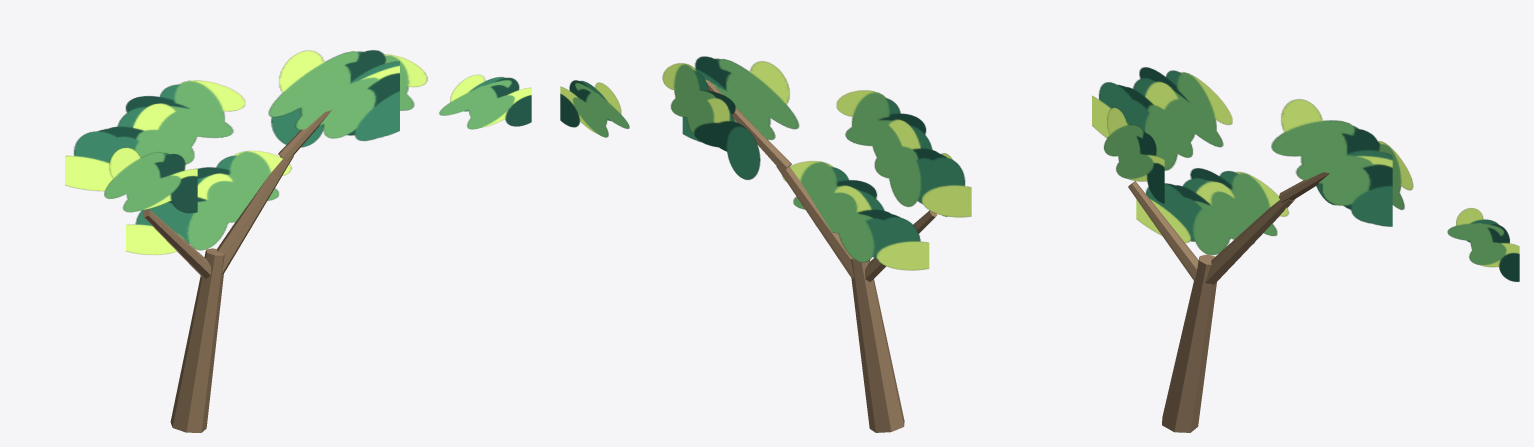
File: TREE_COASTAL_WIND_001_LOD_MAP.glb
3 renders of one model, left to right at view 1: azimuth 30°, elevation 25°; view 2: azimuth 150°, elevation 25°; view 3: azimuth 330°, elevation 25°, orthographic. The views are drawn at different scales.
Visible parts, largest first — view 1: GG_TREE_COASTAL_WIND_001_REAR_01_00, GG_TREE_COASTAL_WIND_001_REAR_02_00, GG_TREE_COASTAL_WIND_001_REAR_05_00, GG_TREE_COASTAL_WIND_001_BRANCH_00, GG_TREE_COASTAL_WIND_001_REAR_00_00, GG_TREE_COASTAL_WIND_001_REAR_04_00, GG_TREE_COASTAL_WIND_001_REAR_03_00, GG_TREE_COASTAL_WIND_001_BRANCH_01, GG_TREE_COASTAL_WIND_001_BRANCH_03, GG_TREE_COASTAL_WIND_001_BRANCH_02; view 2: GG_TREE_COASTAL_WIND_001_REAR_01_00, GG_TREE_COASTAL_WIND_001_REAR_05_00, GG_TREE_COASTAL_WIND_001_REAR_03_00, GG_TREE_COASTAL_WIND_001_BRANCH_00, GG_TREE_COASTAL_WIND_001_REAR_02_00, GG_TREE_COASTAL_WIND_001_REAR_04_00, GG_TREE_COASTAL_WIND_001_BRANCH_01, GG_TREE_COASTAL_WIND_001_BRANCH_02, GG_TREE_COASTAL_WIND_001_BRANCH_03; view 3: GG_TREE_COASTAL_WIND_001_REAR_02_00, GG_TREE_COASTAL_WIND_001_REAR_01_00, GG_TREE_COASTAL_WIND_001_REAR_05_00, GG_TREE_COASTAL_WIND_001_BRANCH_00, GG_TREE_COASTAL_WIND_001_REAR_00_00, GG_TREE_COASTAL_WIND_001_REAR_04_00, GG_TREE_COASTAL_WIND_001_BRANCH_01, GG_TREE_COASTAL_WIND_001_BRANCH_03, GG_TREE_COASTAL_WIND_001_REAR_03_00, GG_TREE_COASTAL_WIND_001_BRANCH_02.
Boxes of the visible parts, <box> form: GG_TREE_COASTAL_WIND_001_REAR_01_00: <box>65,80,245,191</box>; GG_TREE_COASTAL_WIND_001_REAR_02_00: <box>268,50,399,141</box>; GG_TREE_COASTAL_WIND_001_REAR_05_00: <box>126,150,291,254</box>; GG_TREE_COASTAL_WIND_001_BRANCH_00: <box>170,248,224,432</box>; GG_TREE_COASTAL_WIND_001_REAR_00_00: <box>104,147,197,213</box>; GG_TREE_COASTAL_WIND_001_REAR_04_00: <box>439,74,531,129</box>; GG_TREE_COASTAL_WIND_001_REAR_03_00: <box>271,54,427,147</box>; GG_TREE_COASTAL_WIND_001_BRANCH_01: <box>217,155,293,273</box>; GG_TREE_COASTAL_WIND_001_BRANCH_03: <box>142,209,210,278</box>; GG_TREE_COASTAL_WIND_001_BRANCH_02: <box>278,110,331,160</box>; GG_TREE_COASTAL_WIND_001_REAR_01_00: <box>836,90,971,217</box>; GG_TREE_COASTAL_WIND_001_REAR_05_00: <box>782,161,929,270</box>; GG_TREE_COASTAL_WIND_001_REAR_03_00: <box>662,63,760,179</box>; GG_TREE_COASTAL_WIND_001_BRANCH_00: <box>850,257,904,432</box>; GG_TREE_COASTAL_WIND_001_REAR_02_00: <box>682,56,799,145</box>; GG_TREE_COASTAL_WIND_001_REAR_04_00: <box>560,80,629,137</box>; GG_TREE_COASTAL_WIND_001_BRANCH_01: <box>776,165,854,277</box>; GG_TREE_COASTAL_WIND_001_BRANCH_02: <box>707,80,791,171</box>; GG_TREE_COASTAL_WIND_001_BRANCH_03: <box>865,210,937,281</box>; GG_TREE_COASTAL_WIND_001_REAR_02_00: <box>1271,99,1392,226</box>; GG_TREE_COASTAL_WIND_001_REAR_01_00: <box>1092,67,1232,170</box>; GG_TREE_COASTAL_WIND_001_REAR_05_00: <box>1136,168,1288,255</box>; GG_TREE_COASTAL_WIND_001_BRANCH_00: <box>1162,254,1216,432</box>; GG_TREE_COASTAL_WIND_001_REAR_00_00: <box>1104,107,1164,203</box>; GG_TREE_COASTAL_WIND_001_REAR_04_00: <box>1447,208,1519,281</box>; GG_TREE_COASTAL_WIND_001_BRANCH_01: <box>1205,199,1295,285</box>; GG_TREE_COASTAL_WIND_001_BRANCH_03: <box>1128,181,1198,280</box>; GG_TREE_COASTAL_WIND_001_REAR_03_00: <box>1316,141,1413,209</box>; GG_TREE_COASTAL_WIND_001_BRANCH_02: <box>1279,172,1329,202</box>.
Size of the model in its own units: 7.23 by 5.14 by 1.06.
Materials: 2 (1 with a texture image).
